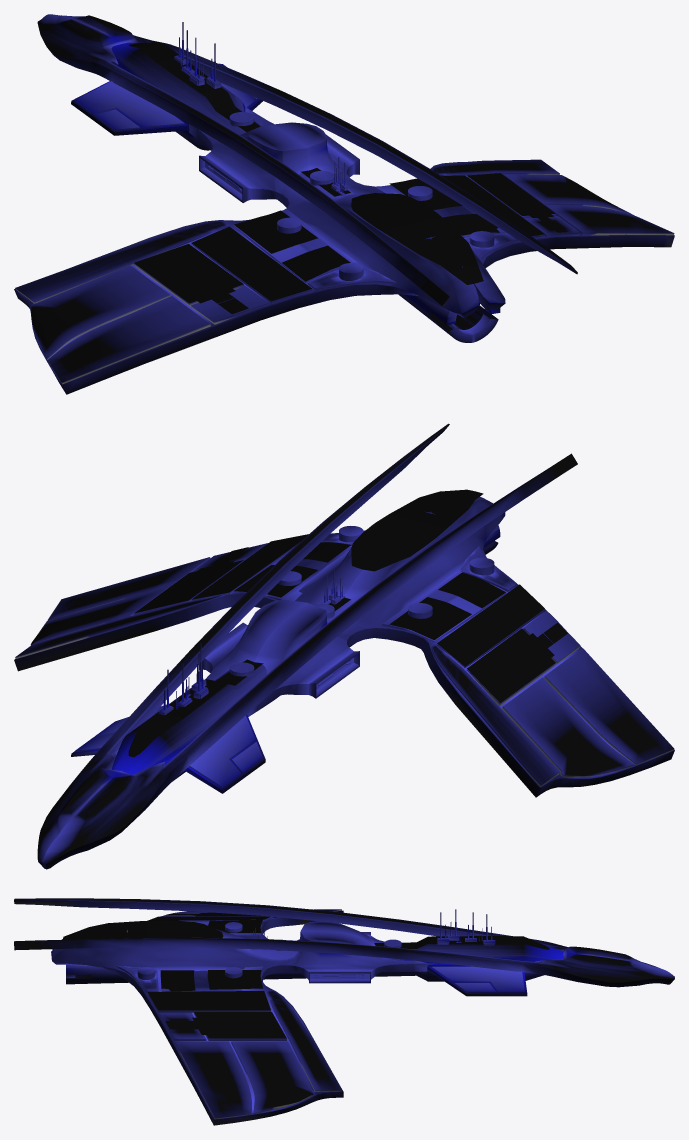
The model's file is ad_cruiser_03.fbx.
The picture shows the model from 3 angles, top to bottom: view 1: azimuth 30°, elevation 25°; view 2: azimuth 150°, elevation 25°; view 3: azimuth 270°, elevation 25°; orthographic projection. The views are drawn at different scales.
Visible parts, largest first — view 1: ad_cruiser_03; view 2: ad_cruiser_03; view 3: ad_cruiser_03.
Boxes of the visible parts, x1,y1,x2,y2 form: ad_cruiser_03: (14,14,674,394); ad_cruiser_03: (14,423,674,869); ad_cruiser_03: (14,898,674,1125).
Bounding box in the file's own units: 5712 × 1407 × 7558.
